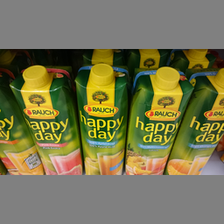juice: (9, 64, 84, 175), (127, 66, 192, 174), (166, 69, 224, 174), (74, 63, 128, 174)
